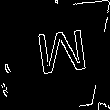M_S: (33, 29, 91, 85)
